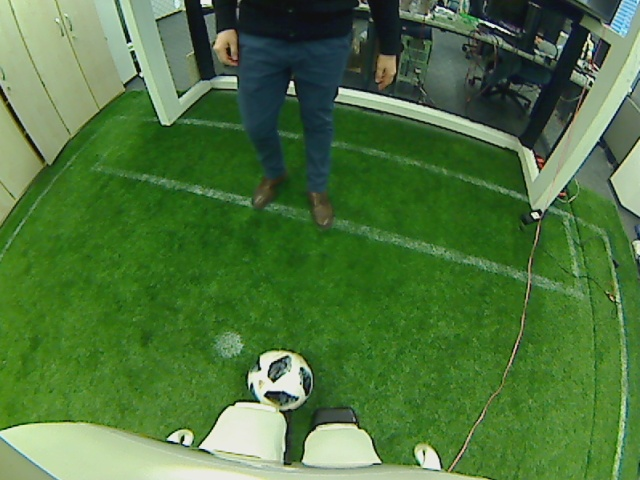ball: (244, 345, 317, 412)
